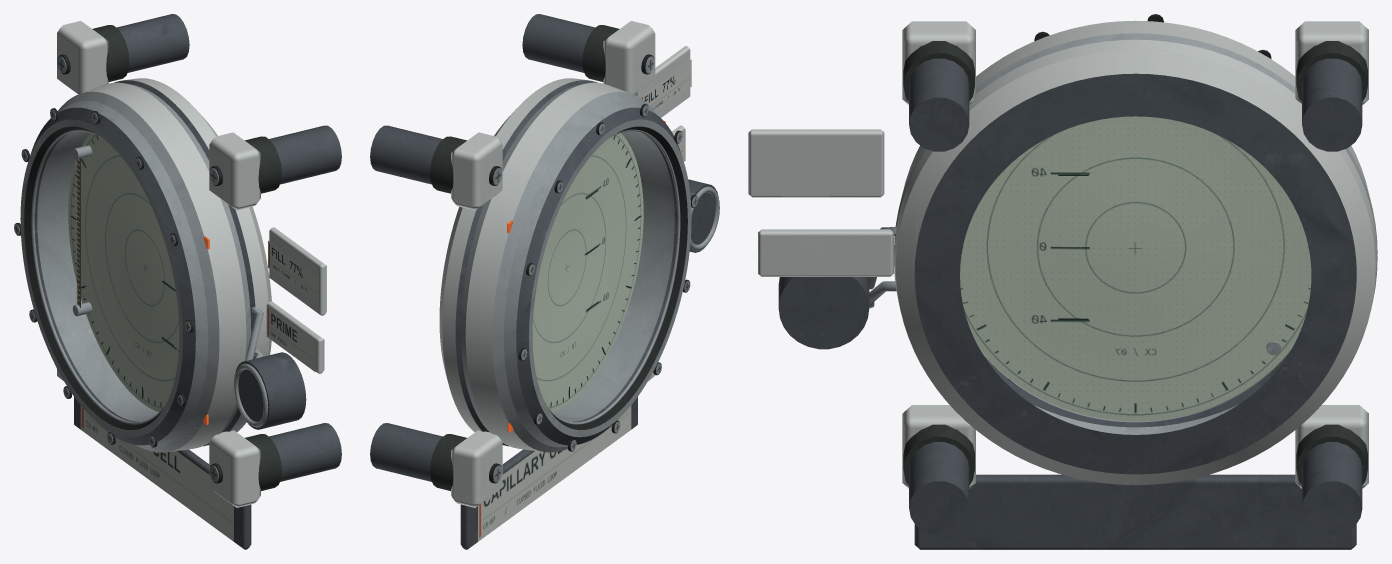
File: prop_capillary_cell.fbx
3 renders of one model, left to right at view 1: azimuth 30°, elevation 25°; view 2: azimuth 150°, elevation 25°; view 3: azimuth 270°, elevation 25°, orthographic. The views are drawn at different scales.
Parts seen in each view (by area): view 1: SM_prop_capillary_cell; view 2: SM_prop_capillary_cell; view 3: SM_prop_capillary_cell.
Boxes of the visible parts, x1,y1,x2,y2 form: SM_prop_capillary_cell: (14, 14, 341, 549); SM_prop_capillary_cell: (370, 14, 719, 549); SM_prop_capillary_cell: (748, 14, 1377, 549).
Bounding box in the file's own units: 0.12 × 0.3035 × 0.333.
13 materials, 9 textured.
